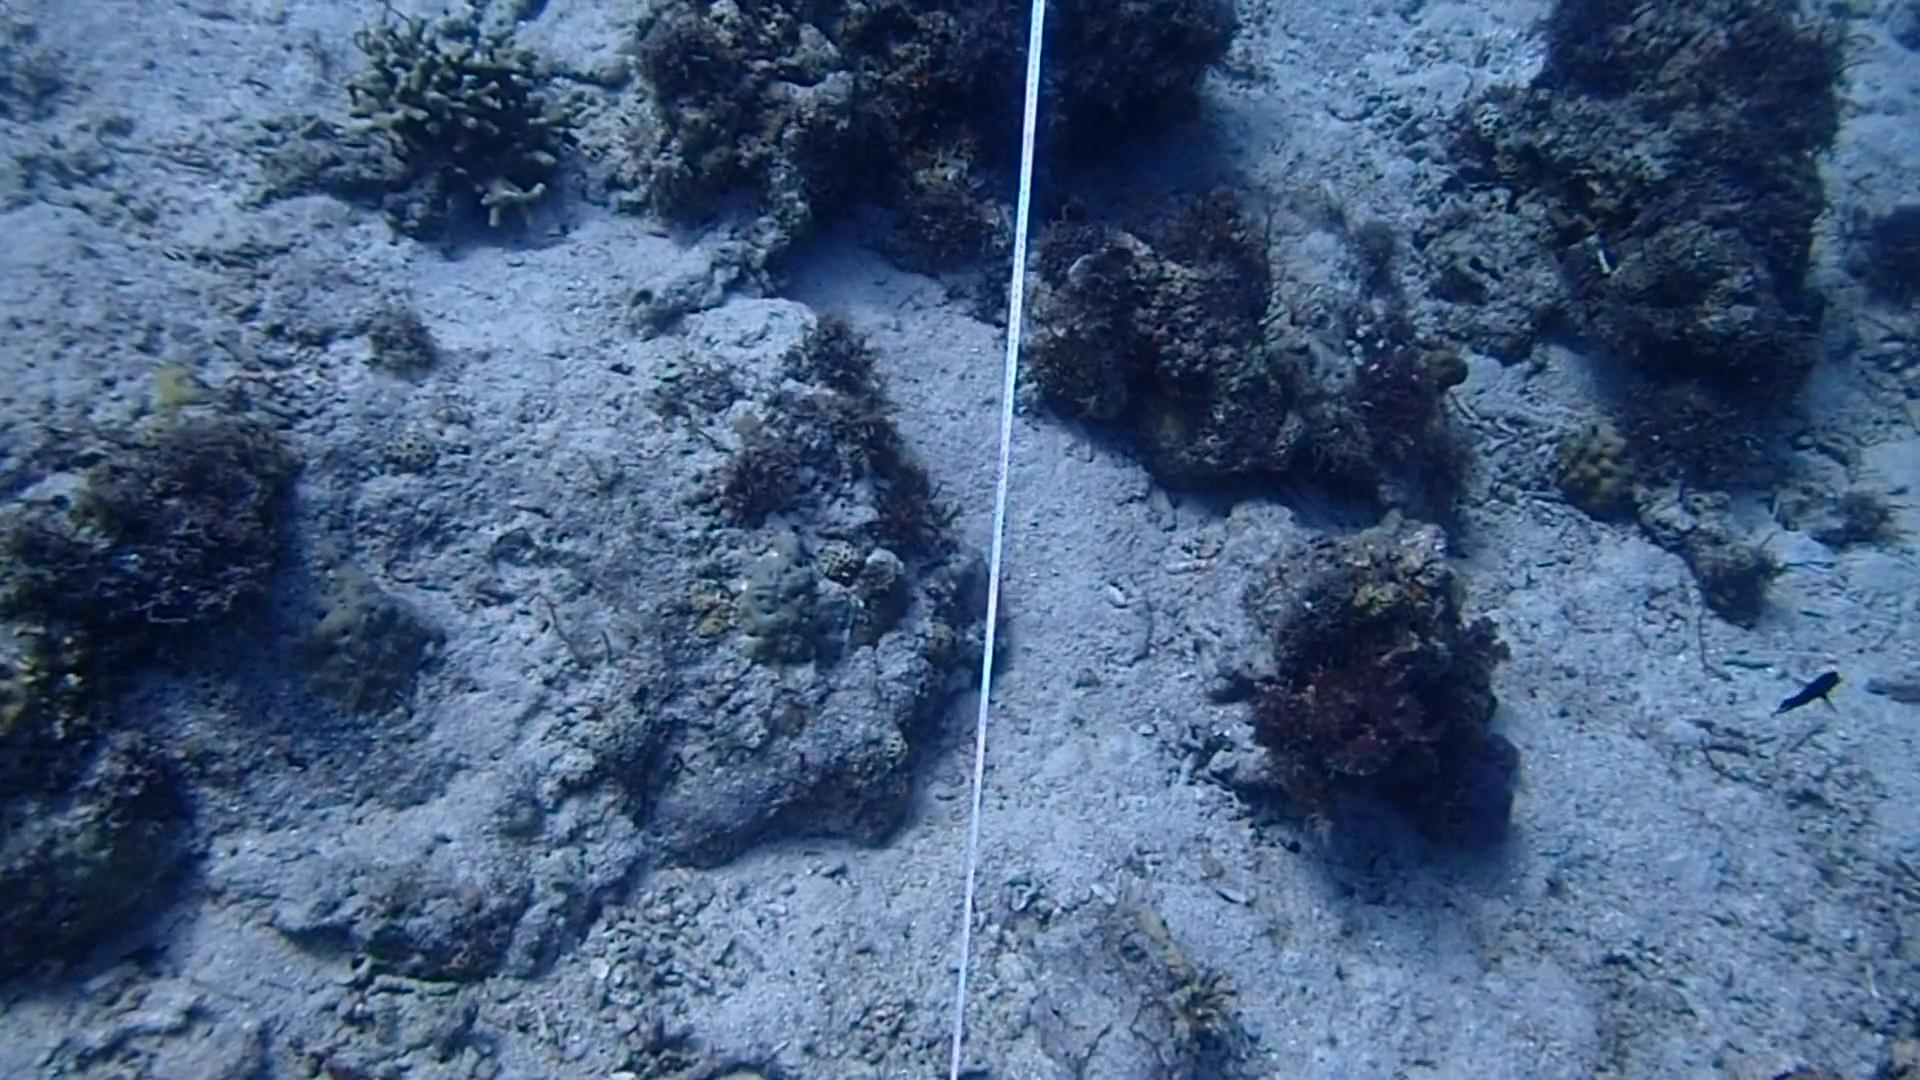Dark Fish: (1766, 666, 1849, 727)
